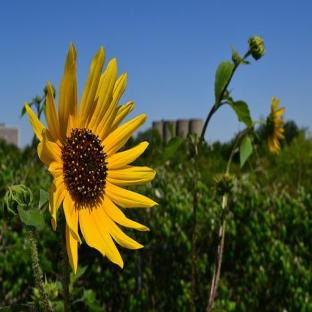sunflower: (19, 43, 159, 273)
